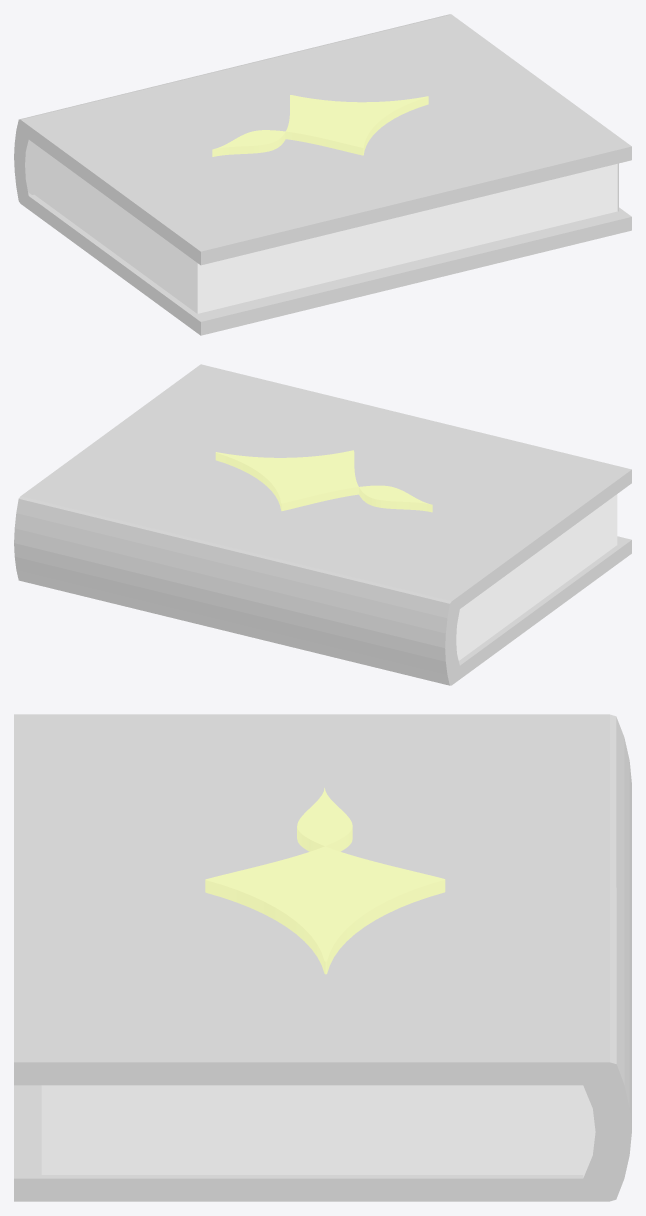
The model's file is Book.glb.
3 views of the same model, one above another, from view 1: azimuth 30°, elevation 25°; view 2: azimuth 150°, elevation 25°; view 3: azimuth 270°, elevation 25° (orthographic). The views are drawn at different scales.
Parts seen in each view (by area): view 1: Cube, Plane.001, Plane, Curve.001, Curve; view 2: Cube, Plane, Curve.001, Curve; view 3: Cube, Plane.002, Curve.001, Curve.
Part boxes in pixels (x1,y1,x2,y2): Cube: [14, 14, 631, 335]; Plane.001: [197, 164, 617, 313]; Plane: [25, 140, 197, 313]; Curve.001: [285, 95, 428, 155]; Curve: [212, 130, 285, 156]; Cube: [14, 364, 631, 685]; Plane: [456, 494, 617, 660]; Curve.001: [215, 450, 358, 510]; Curve: [359, 485, 432, 512]; Cube: [14, 714, 631, 1201]; Plane.002: [41, 1085, 595, 1177]; Curve.001: [205, 846, 445, 974]; Curve: [297, 788, 352, 851].
Size of the model in its own units: 1.17 by 0.2375 by 0.8767.
